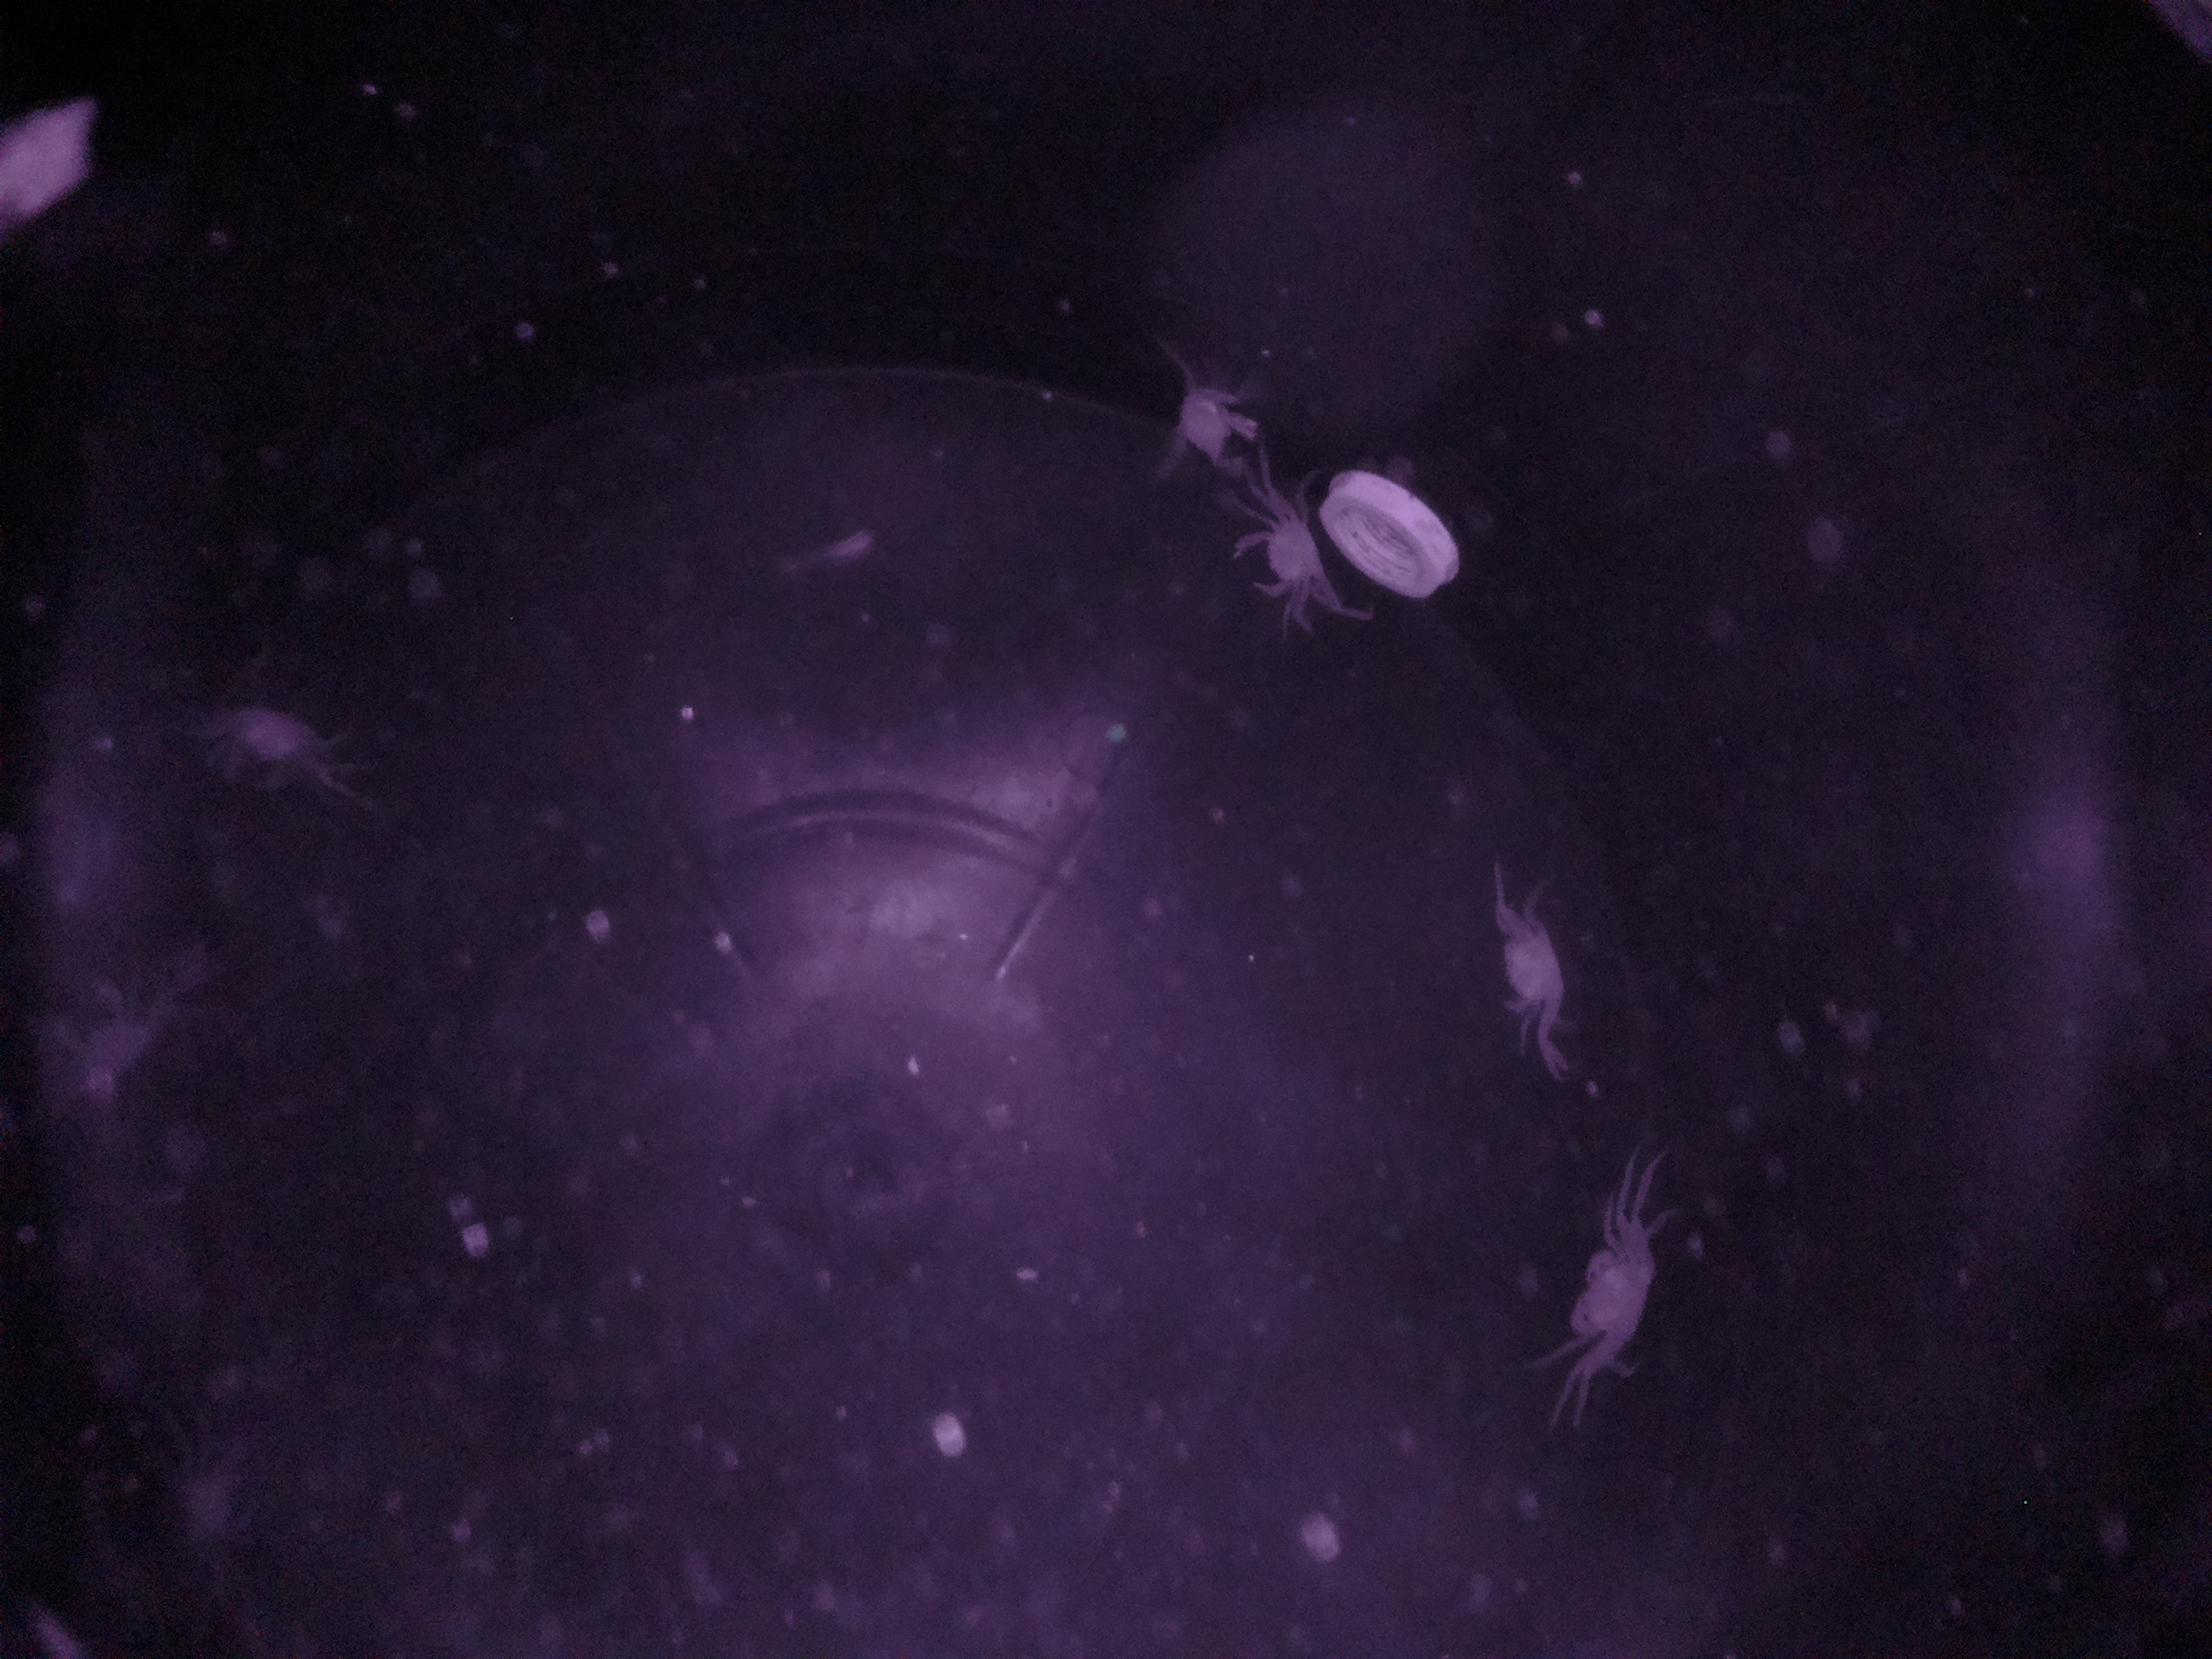Crab: (1550, 1211, 1684, 1380), (1212, 488, 1360, 617), (1470, 887, 1587, 1040)
